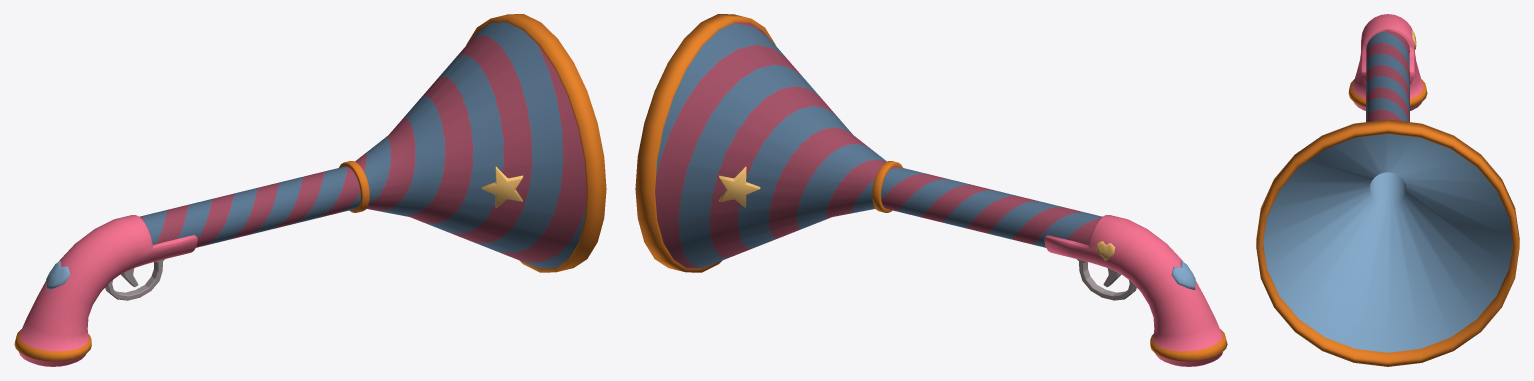
File: shotgun_variation.glb
3 views of the same model, side by side, from view 1: azimuth 30°, elevation 25°; view 2: azimuth 150°, elevation 25°; view 3: azimuth 270°, elevation 25° (orthographic).
Visible parts, largest first — view 1: cano; view 2: cano; view 3: cano.
Part boxes in pixels (box(x1,y1,x2,y2)): cano: box(14, 14, 606, 366); cano: box(635, 14, 1227, 366); cano: box(1256, 14, 1519, 366).
Size of the model in its own units: 3.6 by 1.57 by 1.57.
Materials: 7 (1 with a texture image).
